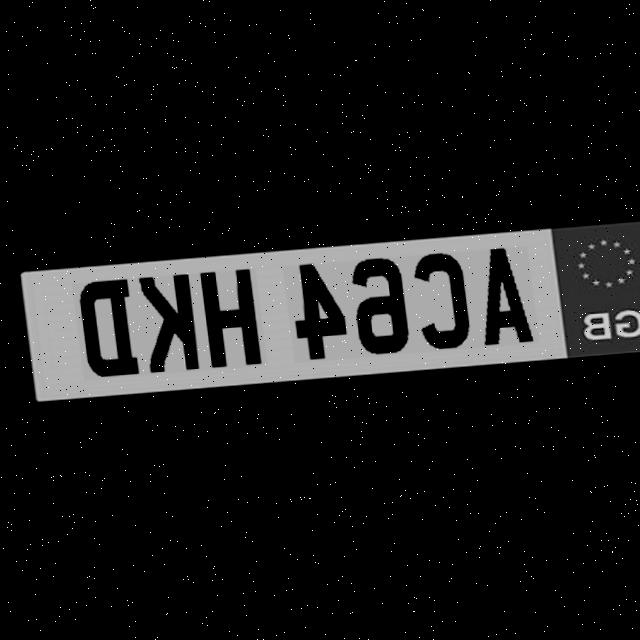license-plates: (20, 222, 640, 401)
